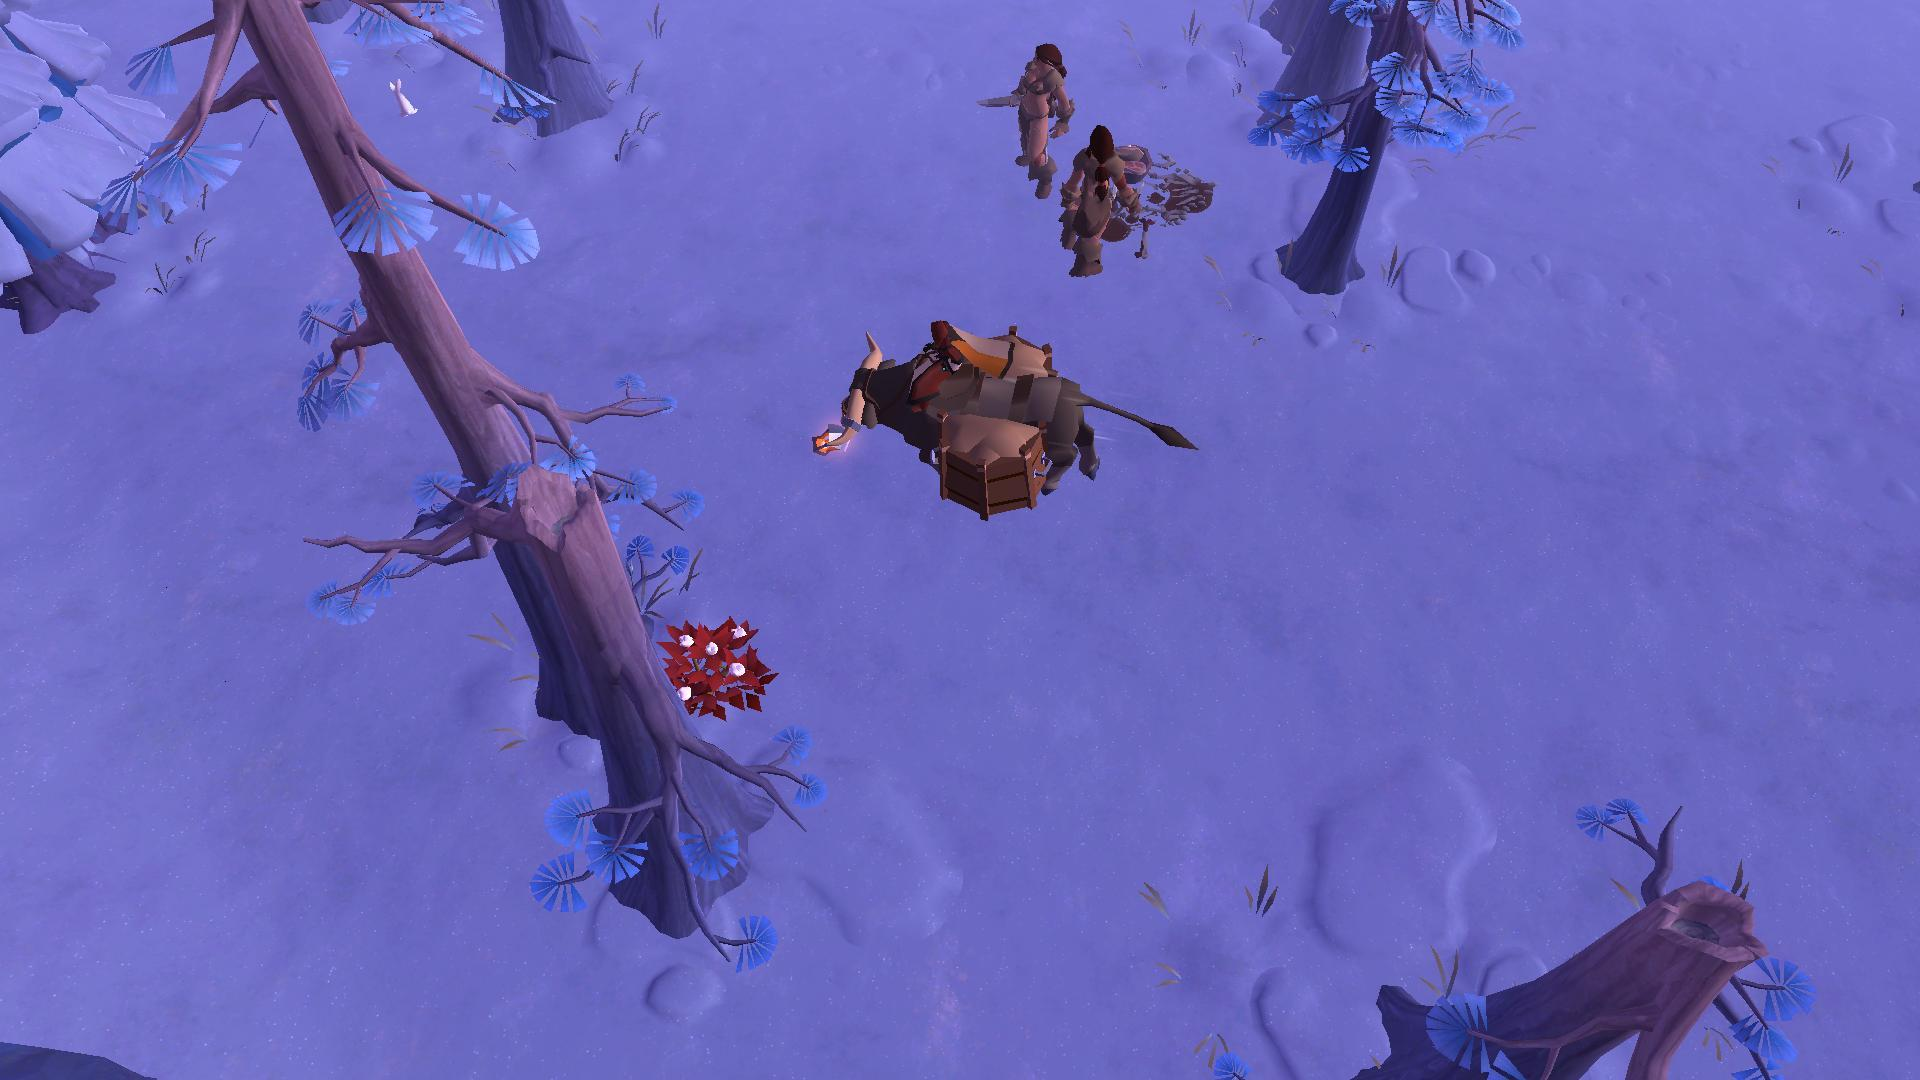enemy_factionKeeper: (1051, 128, 1139, 286), (994, 40, 1075, 200)
fiber_t5: (658, 611, 778, 725)
